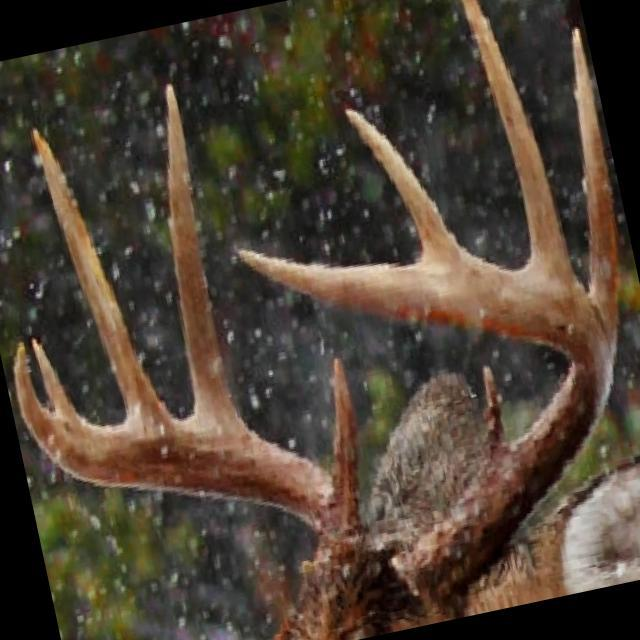L-F: (236, 246, 616, 605)
L-G1: (479, 362, 512, 473)
L-G2: (568, 23, 619, 356)
L-G3: (458, 0, 583, 283)
L-G4: (341, 104, 486, 262)
R-G1: (328, 352, 360, 490)
R-G2: (163, 80, 249, 431)
R-G3: (32, 126, 176, 421)
R-G4: (28, 331, 84, 417)
R-R: (10, 337, 365, 540)
